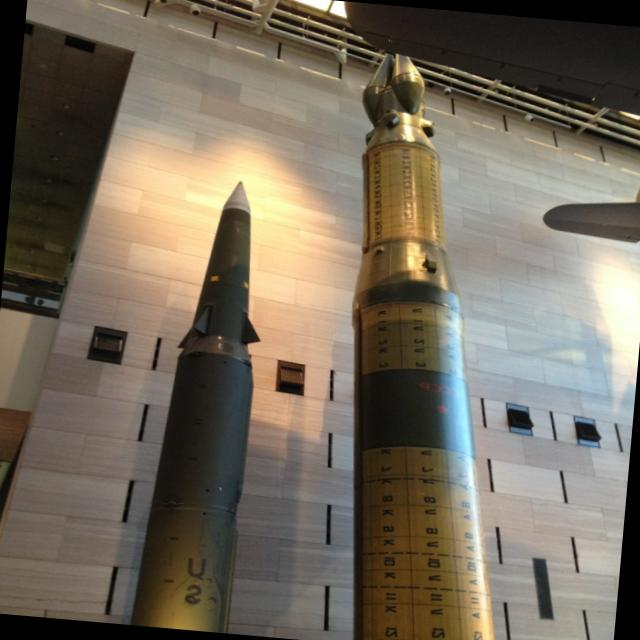rocket: (123, 172, 296, 636)
